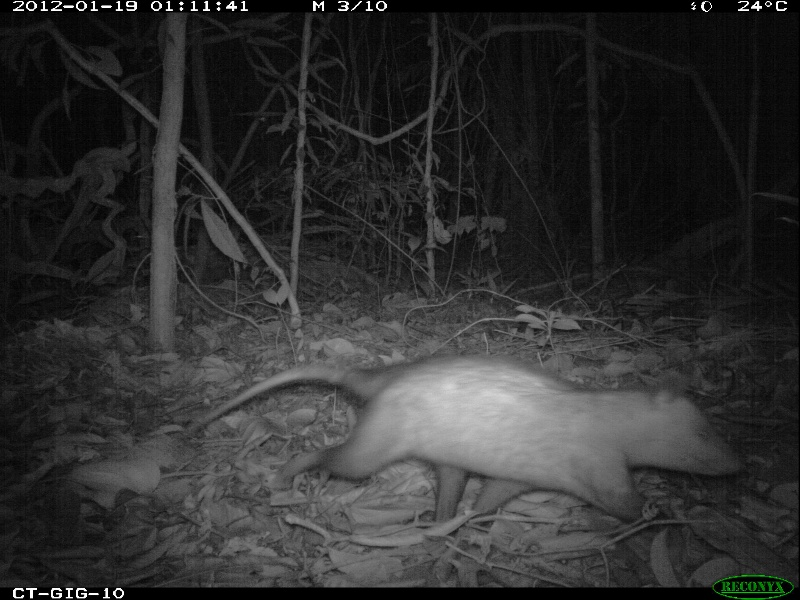opossum: (176, 340, 754, 539)
